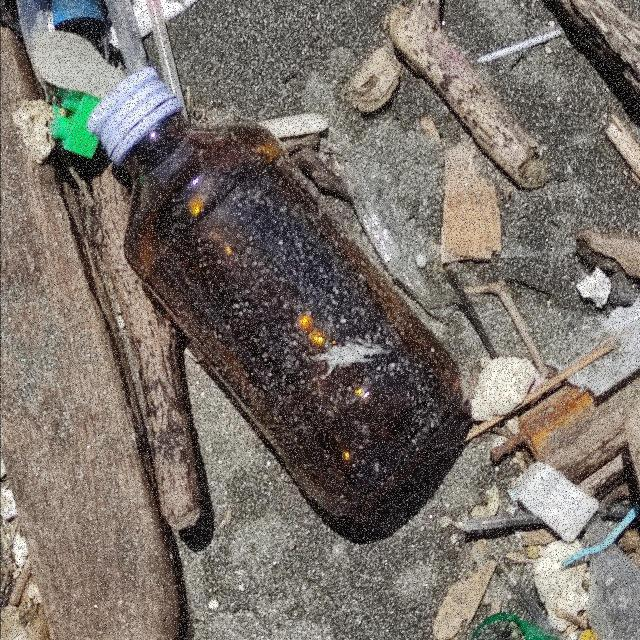glass_waste: (85, 68, 467, 520)
